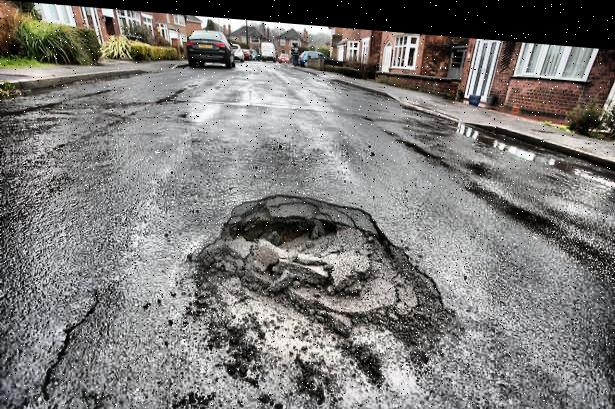pothole: (199, 184, 449, 359)
